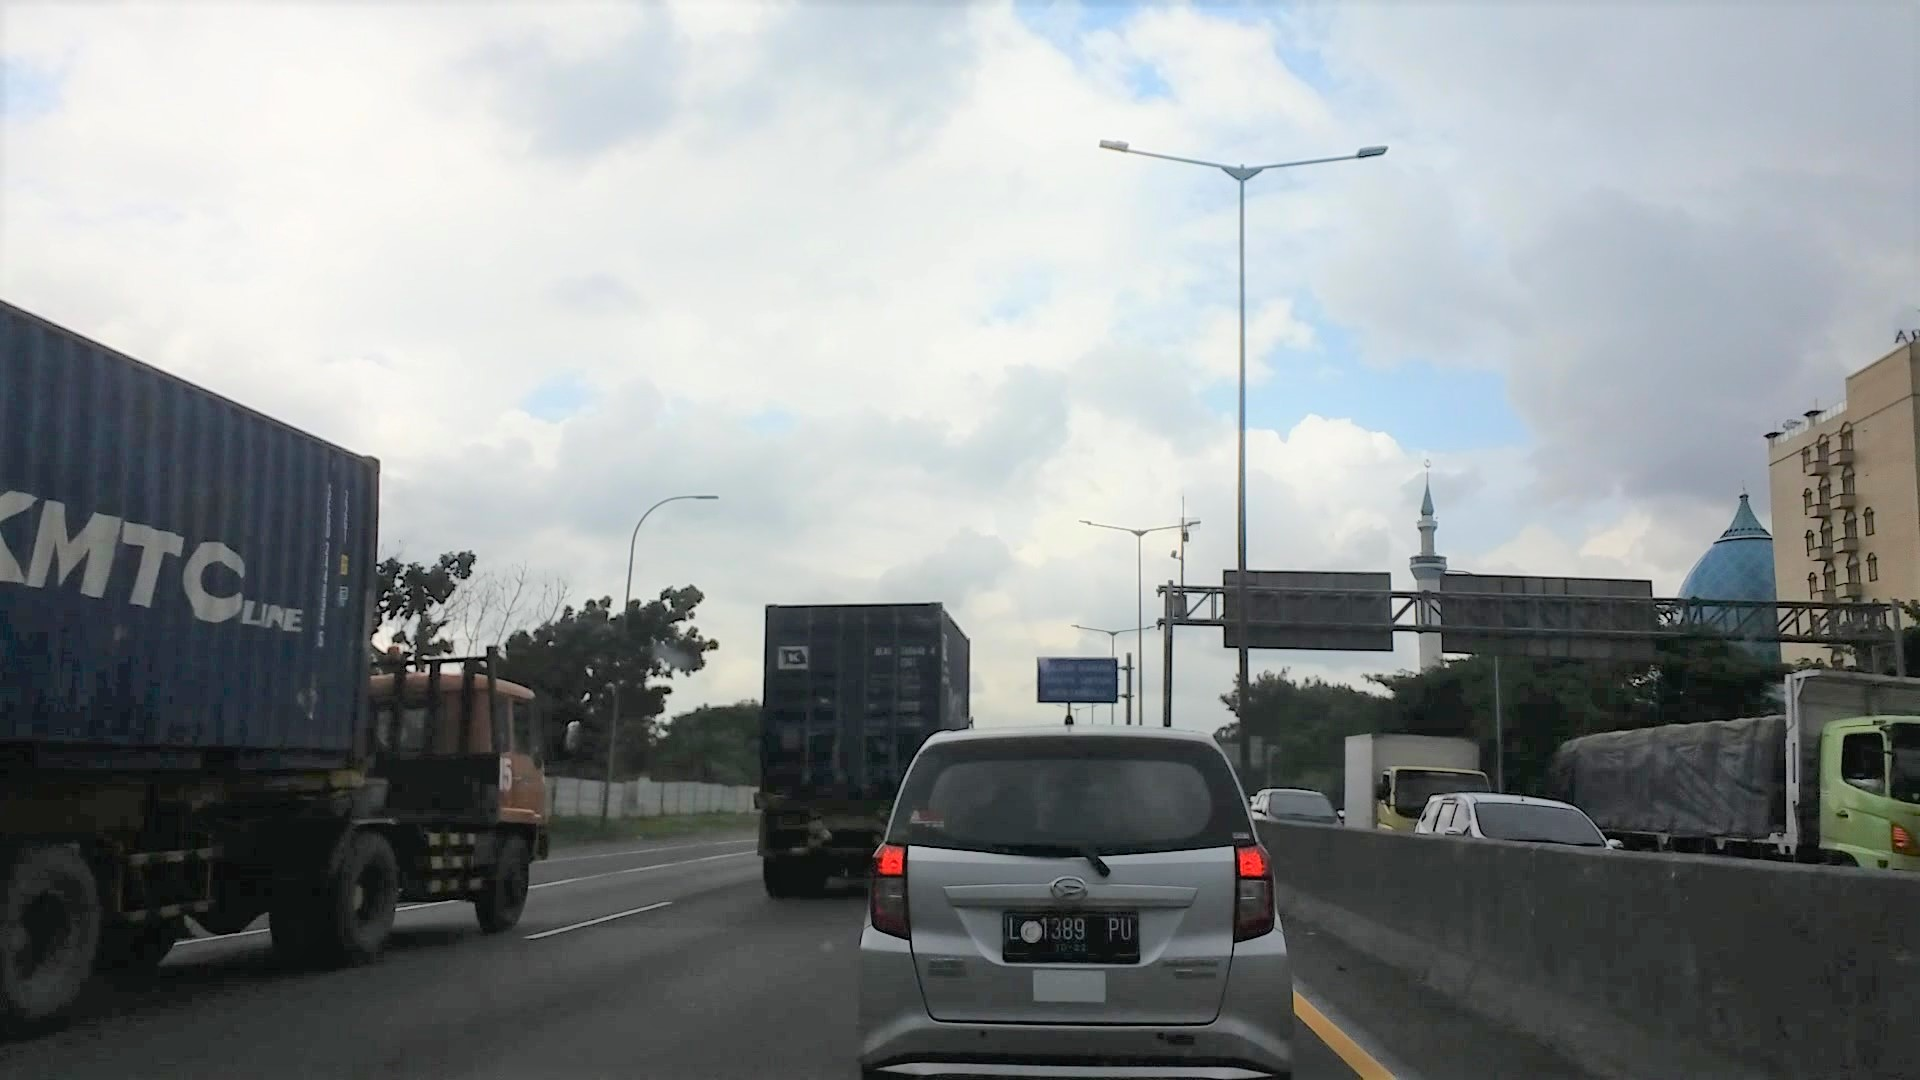plate_positive: (1004, 910, 1141, 963)
